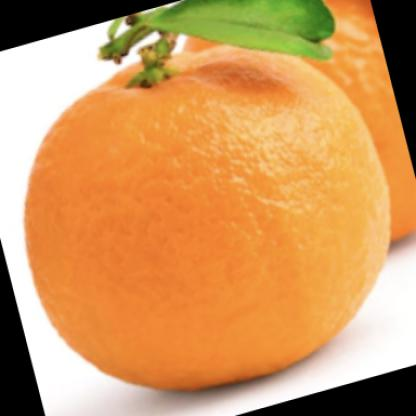orange: (24, 47, 393, 403)
